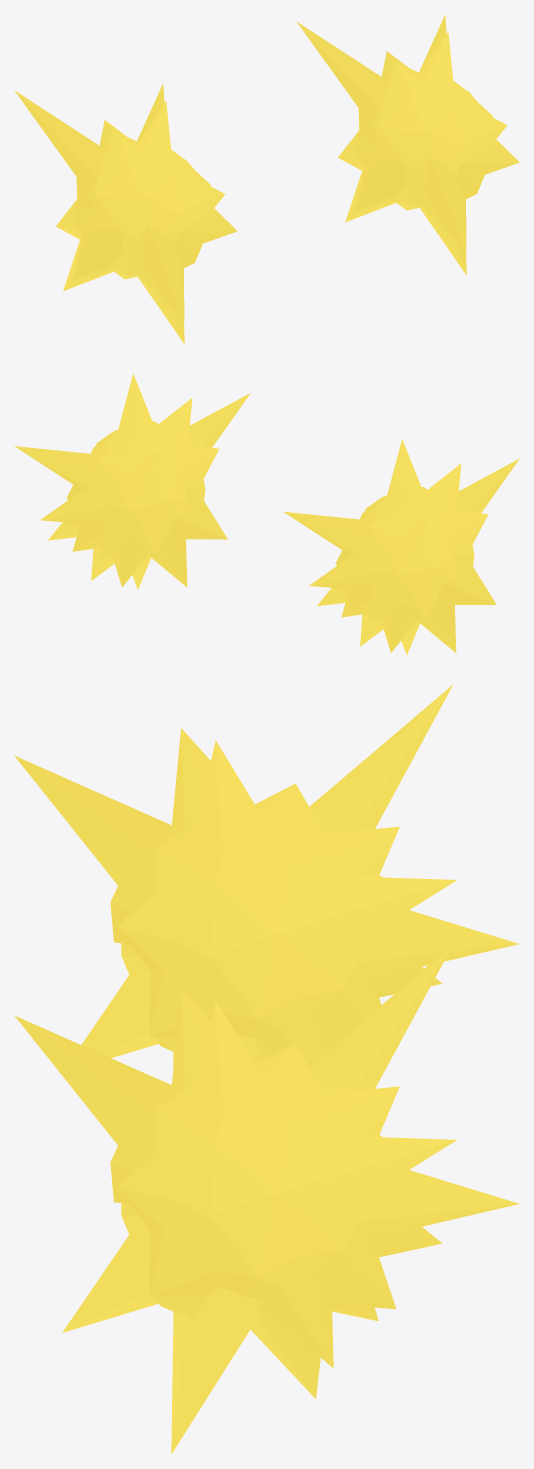
Rendered from spark3.glb.
The picture shows the model from 3 angles, top to bottom: view 1: azimuth 30°, elevation 25°; view 2: azimuth 150°, elevation 25°; view 3: azimuth 270°, elevation 25°; orthographic projection. The views are drawn at different scales.
Parts seen in each view (by area): view 1: Icosphere.001, Icosphere.002; view 2: Icosphere.001, Icosphere.002; view 3: Icosphere.001, Icosphere.002.
Part boxes in pixels (bbox=[...]): Icosphere.001: bbox=[296, 14, 519, 275]; Icosphere.002: bbox=[14, 83, 237, 344]; Icosphere.001: bbox=[14, 374, 250, 589]; Icosphere.002: bbox=[283, 439, 519, 655]; Icosphere.001: bbox=[14, 945, 519, 1454]; Icosphere.002: bbox=[14, 684, 519, 1067].
Bounding box in the file's own units: 1.61 × 0.834 × 0.8522.
